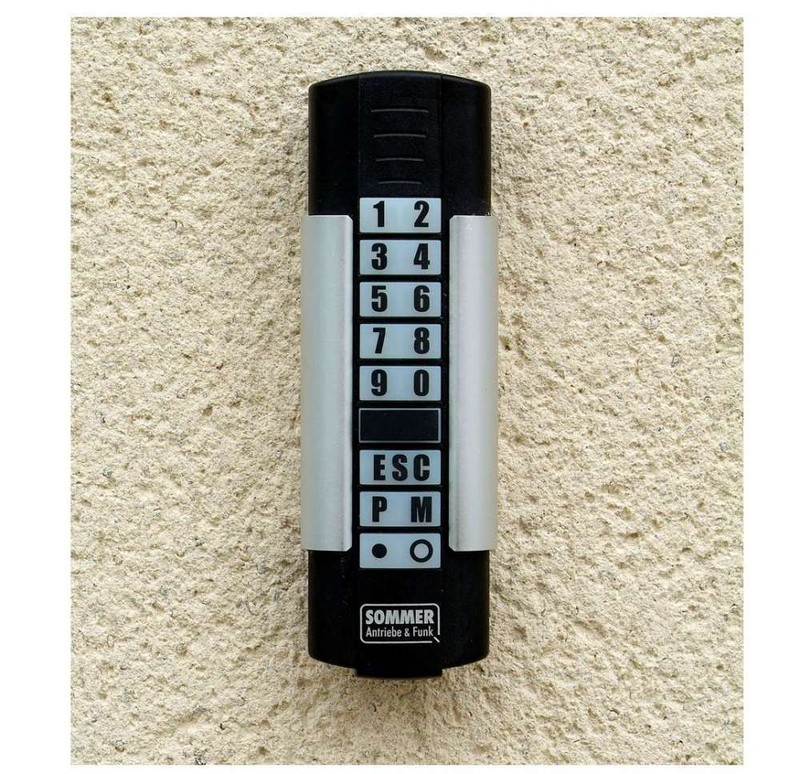digicode: (355, 193, 446, 573)
